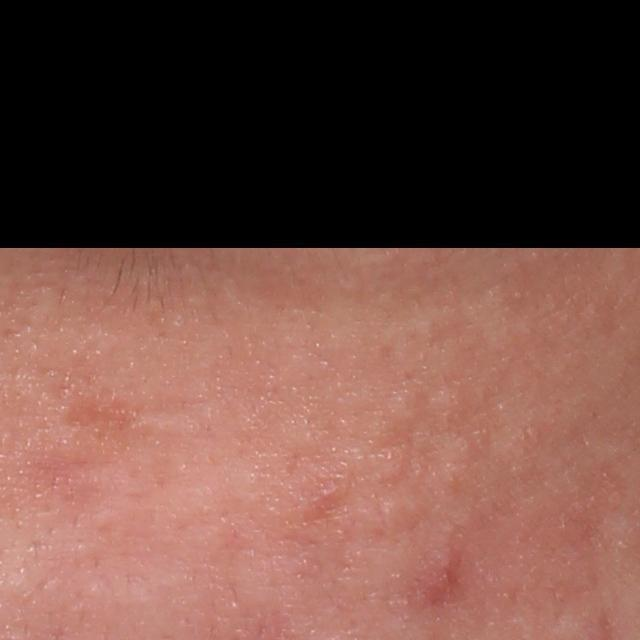hypertrophic_scar: (373, 487, 431, 535), (383, 384, 421, 430), (428, 385, 470, 423), (442, 435, 479, 467)
papule: (420, 538, 464, 599)
